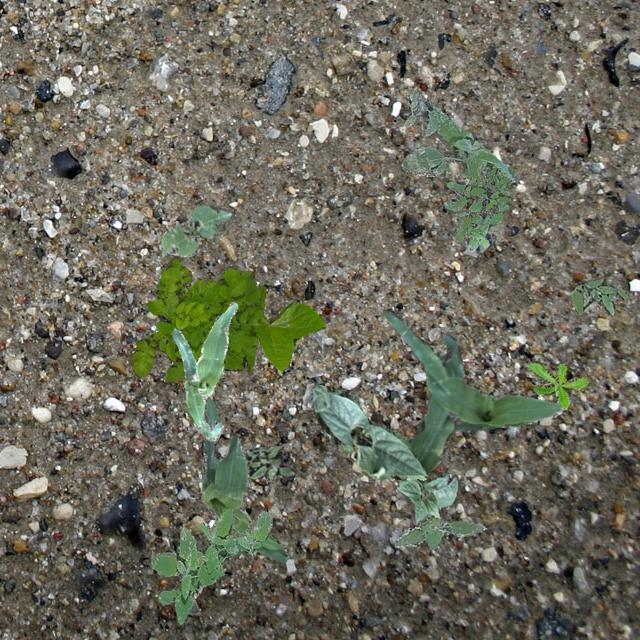crop: (384, 308, 566, 472), (200, 396, 288, 562), (312, 384, 426, 479), (170, 300, 237, 440), (254, 302, 324, 371), (158, 202, 234, 256), (396, 472, 456, 524)
weed: (130, 255, 264, 382), (150, 508, 272, 624), (400, 88, 518, 185), (444, 166, 512, 250), (392, 516, 486, 548), (526, 360, 588, 408), (570, 276, 626, 314), (242, 442, 294, 478)
